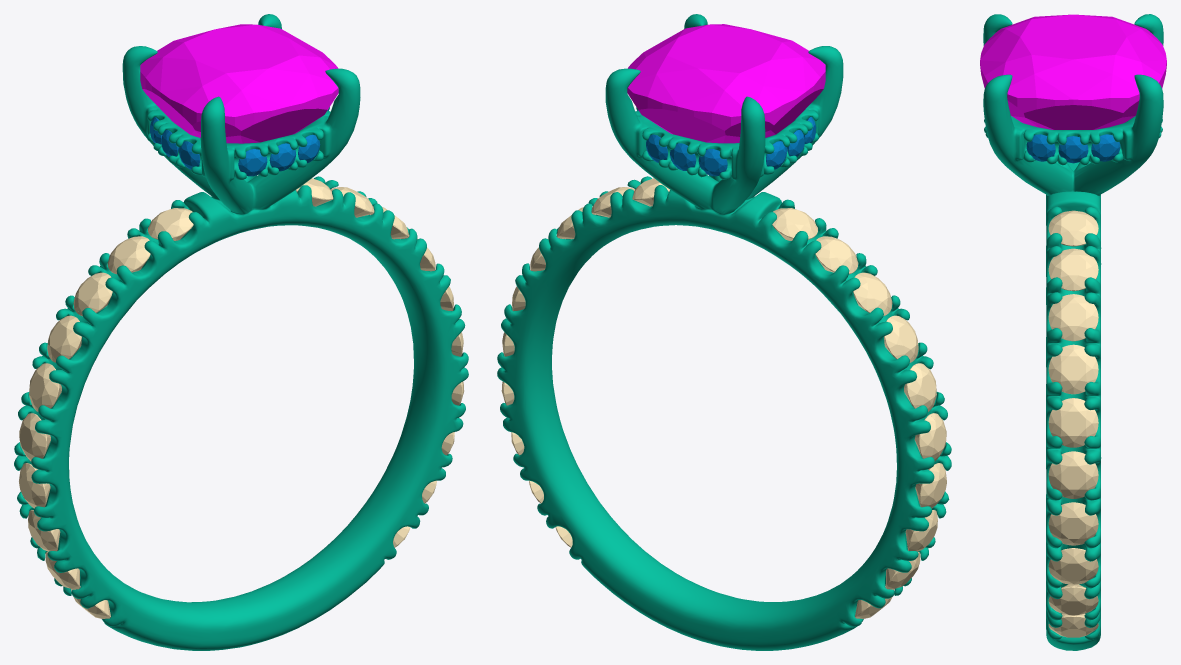
Rendered from BE1D1797_CU_200ct_RENDER.glb.
3 renders of one model, left to right at view 1: azimuth 30°, elevation 25°; view 2: azimuth 150°, elevation 25°; view 3: azimuth 270°, elevation 25°, orthographic.
Visible parts, largest first — view 1: Metal 01, CS_Diamond_Cushion, Diamond_Round_Gem_SH.007, Diamond_Round_Gem_SH.006, Diamond_Round_Gem_SH.008, Diamond_Round_Gem_SH.005, Diamond_Round_Gem_SH.009, Diamond_Round_Gem_SH.004, Diamond_Round_Gem_SH.003, Diamond_Round_Gem_SH.002; view 2: Metal 01, CS_Diamond_Cushion, Diamond_Round_Gem_SH.007, Diamond_Round_Gem_SH.006, Diamond_Round_Gem_SH.008, Diamond_Round_Gem_SH.005, Diamond_Round_Gem_SH.009, Diamond_Round_Gem_SH.004, Diamond_Round_Gem_SH.003, Diamond_Round_Gem_SH.002; view 3: Metal 01, CS_Diamond_Cushion, Diamond_Round_Gem_SH.013, Diamond_Round_Gem_SH.014, Diamond_Round_Gem_SH.015, Diamond_Round_Gem_SH.012, Diamond_Round_Gem_SH.016, Diamond_Round_Gem_SH.011, Diamond_Round_Gem_SH.017, Diamond_Round_Gem_SH.010, Diamond_Round_Gem_SH.018, Diamond_Round_Gem_SH.019 (+3 smaller).
Boxes of the visible parts, <box> form: Metal 01: <box>14,14,468,650</box>; CS_Diamond_Cushion: <box>140,24,338,143</box>; Diamond_Round_Gem_SH.007: <box>73,272,112,316</box>; Diamond_Round_Gem_SH.006: <box>47,315,81,362</box>; Diamond_Round_Gem_SH.008: <box>107,236,150,274</box>; Diamond_Round_Gem_SH.005: <box>29,363,61,411</box>; Diamond_Round_Gem_SH.009: <box>148,208,193,240</box>; Diamond_Round_Gem_SH.004: <box>19,413,50,461</box>; Diamond_Round_Gem_SH.003: <box>19,463,50,508</box>; Diamond_Round_Gem_SH.002: <box>28,510,60,551</box>; Metal 01: <box>497,14,951,650</box>; CS_Diamond_Cushion: <box>627,24,825,143</box>; Diamond_Round_Gem_SH.007: <box>853,272,892,315</box>; Diamond_Round_Gem_SH.006: <box>884,315,918,362</box>; Diamond_Round_Gem_SH.008: <box>815,236,858,274</box>; Diamond_Round_Gem_SH.005: <box>904,363,936,411</box>; Diamond_Round_Gem_SH.009: <box>772,208,817,240</box>; Diamond_Round_Gem_SH.004: <box>914,413,946,461</box>; Diamond_Round_Gem_SH.003: <box>915,463,946,508</box>; Diamond_Round_Gem_SH.002: <box>905,510,937,551</box>; Metal 01: <box>983,14,1163,650</box>; CS_Diamond_Cushion: <box>980,14,1166,129</box>; Diamond_Round_Gem_SH.013: <box>1048,344,1098,394</box>; Diamond_Round_Gem_SH.014: <box>1048,398,1098,447</box>; Diamond_Round_Gem_SH.015: <box>1048,451,1098,498</box>; Diamond_Round_Gem_SH.012: <box>1048,294,1098,341</box>; Diamond_Round_Gem_SH.016: <box>1048,502,1098,545</box>; Diamond_Round_Gem_SH.011: <box>1048,248,1098,291</box>; Diamond_Round_Gem_SH.017: <box>1048,548,1098,584</box>; Diamond_Round_Gem_SH.010: <box>1048,210,1098,246</box>; Diamond_Round_Gem_SH.018: <box>1048,584,1098,615</box>; Diamond_Round_Gem_SH.019: <box>1048,613,1098,637</box>.
Bounding box in the file's own units: 20.12 × 26.15 × 7.5.
